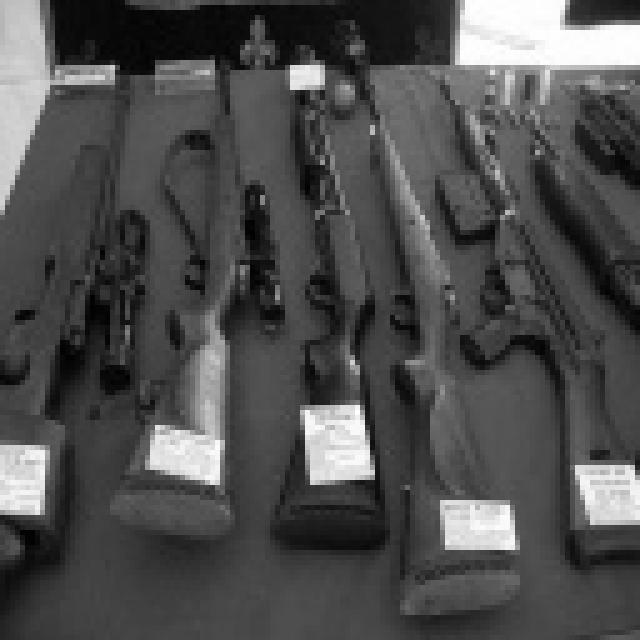Rifle: (261, 24, 377, 537), (145, 51, 257, 532), (358, 50, 438, 608), (23, 40, 109, 559), (449, 57, 540, 529), (561, 50, 640, 188), (527, 133, 596, 278)
